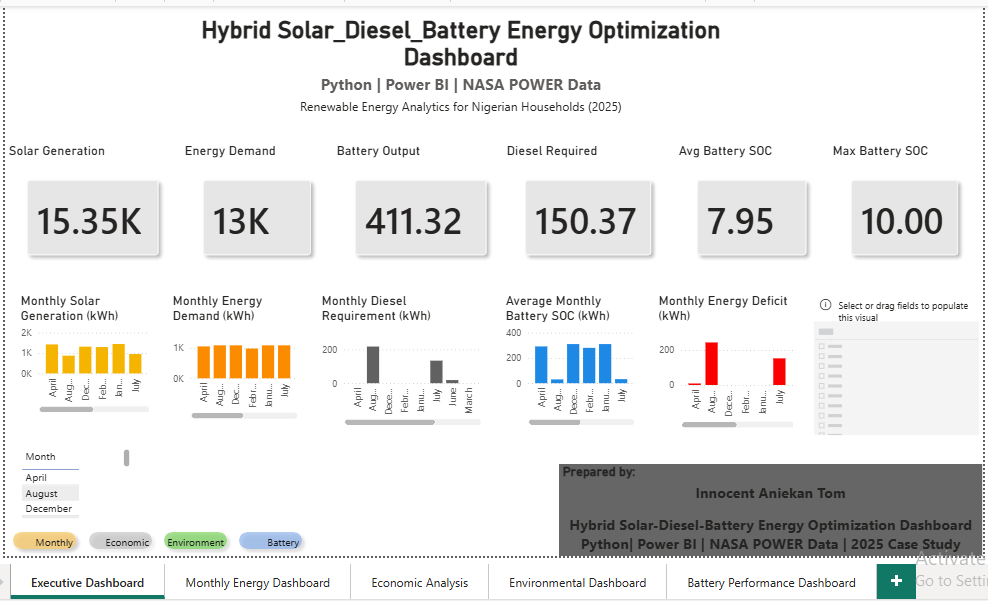

The dashboard page shown, as its layout file describes it:
{"tool":"powerbi","page":{"name":"Executive Dashboard","canvas":[1280,720],"ordinal":0},"visuals":[{"type":"cardVisual","title":"Solar Generation","fields":{"Data":["Sum(Hybrid_Energy_Results.Solar_Output)"]},"box":[0,179.7,230.1,176.4],"z":0},{"type":"cardVisual","title":"Energy Demand ","fields":{"Data":["Sum(Hybrid_Energy_Results.Load_kWh)"]},"box":[230.1,179.7,199.9,176.4],"z":1000},{"type":"cardVisual","title":"Battery Output ","fields":{"Data":["Sum(Hybrid_Energy_Results.Diesel_Needed_Battery)"]},"box":[430,179.7,230.1,176.4],"z":2000},{"type":"cardVisual","title":"Diesel Required ","fields":{"Data":["Sum(Hybrid_Energy_Results.Battery_Discharge)"]},"box":[651.8,179.7,223.4,176.4],"z":3000},{"type":"cardVisual","title":"Avg Battery SOC ","fields":{"Data":["Avg(Hybrid_Energy_Results.Battery_SOC)"]},"box":[876.9,179.7,201.6,176.4],"z":4000},{"type":"cardVisual","title":"Max Battery SOC ","fields":{"Data":["Max(Hybrid_Energy_Results.Battery_SOC)"]},"box":[1078.4,179.7,198.2,176.4],"z":5000},{"type":"clusteredColumnChart","title":"Monthly Solar Generation (kWh)","fields":{"Category":["Hybrid_Energy_Results.Month"],"Y":["Sum(Hybrid_Energy_Results.Solar_Output)"]},"box":[15.1,376.3,178.1,161.3],"z":6000},{"type":"clusteredColumnChart","title":"Monthly Energy Demand (kWh)","fields":{"Category":["Hybrid_Energy_Results.Month"],"Y":["Sum(Hybrid_Energy_Results.Load_kWh)"]},"box":[215.2,376.3,173,169.7],"z":7000},{"type":"clusteredColumnChart","title":"Monthly Diesel Requirement (kWh)","fields":{"Category":["Hybrid_Energy_Results.Month"],"Y":["Sum(Hybrid_Energy_Results.Diesel_Needed_Battery)"]},"box":[410.2,376.3,218.4,178.1],"z":8000},{"type":"clusteredColumnChart","title":"Average Monthly Battery SOC (kWh)","fields":{"Category":["Hybrid_Energy_Results.Month"],"Y":["Sum(Hybrid_Energy_Results.Battery_SOC)"]},"box":[650.6,376.3,178.1,178.1],"z":9000},{"type":"clusteredColumnChart","title":"Monthly Energy Deficit (kWh)","fields":{"Category":["Hybrid_Energy_Results.Month"],"Y":["Sum(Hybrid_Energy_Results.Energy_Gap)"]},"box":[850.7,376.3,186.5,181.4],"z":10000},{"type":"slicer","box":[1059,376.3,216,185.8],"z":11000},{"type":"textbox","title":"Hybrid Solar_Diesel_Battery Energy Optimization Dashboard ","box":[215,13.4,764.3,142.8],"z":12000},{"type":"tableEx","fields":{"Values":["Hybrid_Energy_Results.Month"]},"box":[15.1,574.5,152.9,100.8],"z":13000},{"type":"actionButton","box":[1.7,679.7,100.8,40.3],"z":14000},{"type":"actionButton","box":[100.2,679.7,100.8,40.3],"z":15000},{"type":"actionButton","box":[198.8,679.7,100.8,40.3],"z":16000},{"type":"actionButton","box":[297.3,679.7,100.8,40.3],"z":17000},{"type":"textbox","title":"Prepared by: ","box":[725.7,599.7,554.3,120.9],"z":18000}]}

Visuals, with their boxes on the page's 1280x720 design canvas (x1, y1, x2, y2). These are canvas units, not pixel positions in the 988x601 screenshot, which may show the page scaled, cropped or inside an application window:
"Solar Generation" cardVisual: {"x1": 0, "y1": 180, "x2": 230, "y2": 356}
"Energy Demand " cardVisual: {"x1": 230, "y1": 180, "x2": 430, "y2": 356}
"Battery Output " cardVisual: {"x1": 430, "y1": 180, "x2": 660, "y2": 356}
"Diesel Required " cardVisual: {"x1": 652, "y1": 180, "x2": 875, "y2": 356}
"Avg Battery SOC " cardVisual: {"x1": 877, "y1": 180, "x2": 1078, "y2": 356}
"Max Battery SOC " cardVisual: {"x1": 1078, "y1": 180, "x2": 1277, "y2": 356}
"Monthly Solar Generation (kWh)" clusteredColumnChart: {"x1": 15, "y1": 376, "x2": 193, "y2": 538}
"Monthly Energy Demand (kWh)" clusteredColumnChart: {"x1": 215, "y1": 376, "x2": 388, "y2": 546}
"Monthly Diesel Requirement (kWh)" clusteredColumnChart: {"x1": 410, "y1": 376, "x2": 629, "y2": 554}
"Average Monthly Battery SOC (kWh)" clusteredColumnChart: {"x1": 651, "y1": 376, "x2": 829, "y2": 554}
"Monthly Energy Deficit (kWh)" clusteredColumnChart: {"x1": 851, "y1": 376, "x2": 1037, "y2": 558}
slicer: {"x1": 1059, "y1": 376, "x2": 1275, "y2": 562}
"Hybrid Solar_Diesel_Battery Energy Optimization Dashboard " textbox: {"x1": 215, "y1": 13, "x2": 979, "y2": 156}
tableEx - Hybrid_Energy_Results.Month: {"x1": 15, "y1": 574, "x2": 168, "y2": 675}
actionButton: {"x1": 2, "y1": 680, "x2": 102, "y2": 720}
actionButton: {"x1": 100, "y1": 680, "x2": 201, "y2": 720}
actionButton: {"x1": 199, "y1": 680, "x2": 300, "y2": 720}
actionButton: {"x1": 297, "y1": 680, "x2": 398, "y2": 720}
"Prepared by: " textbox: {"x1": 726, "y1": 600, "x2": 1280, "y2": 721}
